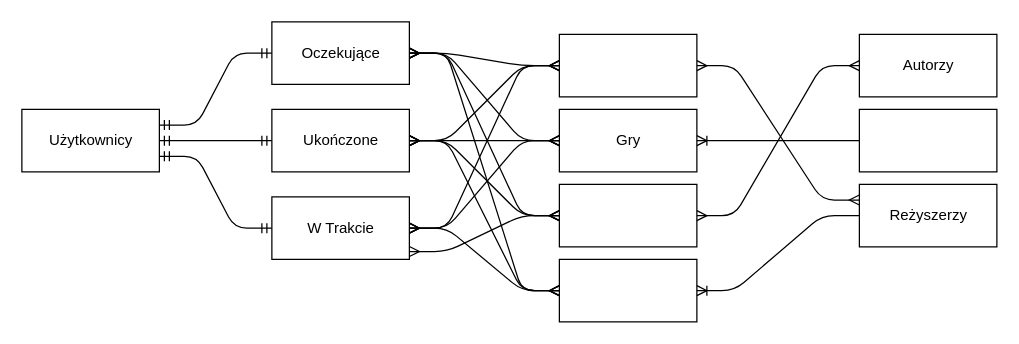
This 1019x344 diagram has some shape labels left out. Each missing label, with the centre of its shape:
FIlmy: point (627, 290)
Książki: point (627, 215)
Producenci: point (927, 140)
Seriale: point (627, 65)
